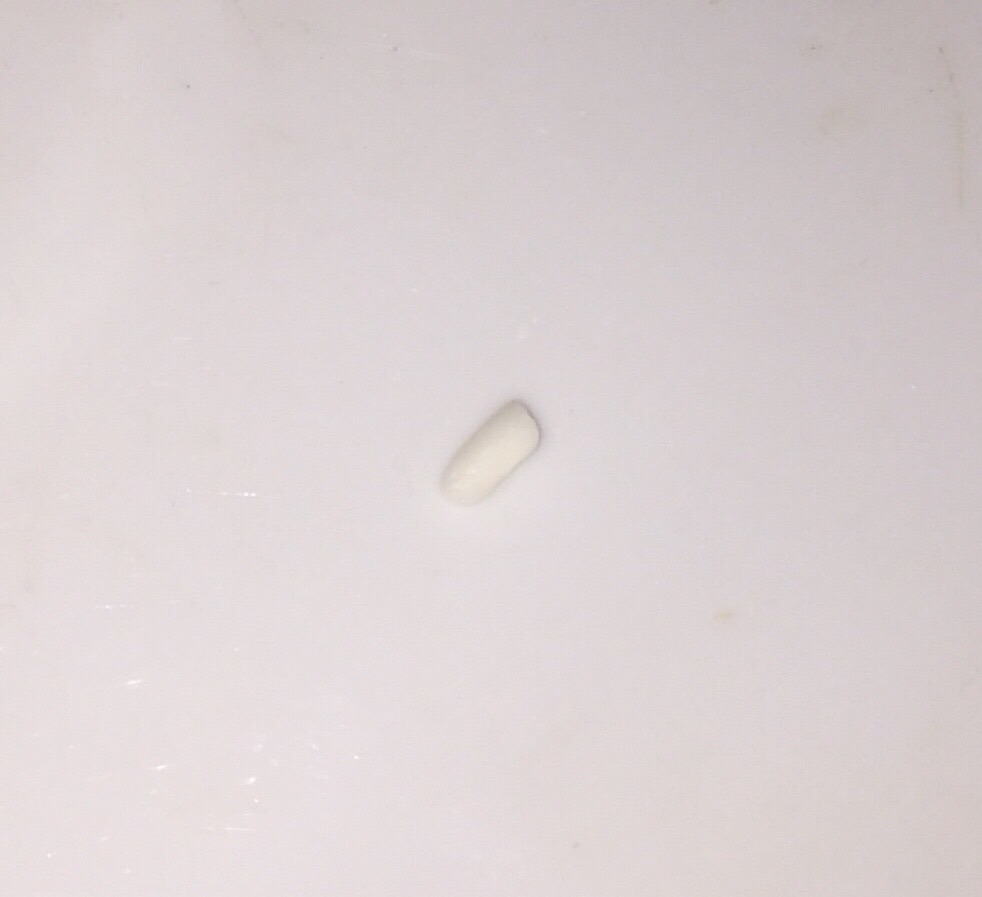Gao Nep Sap: (437, 400, 553, 511)
